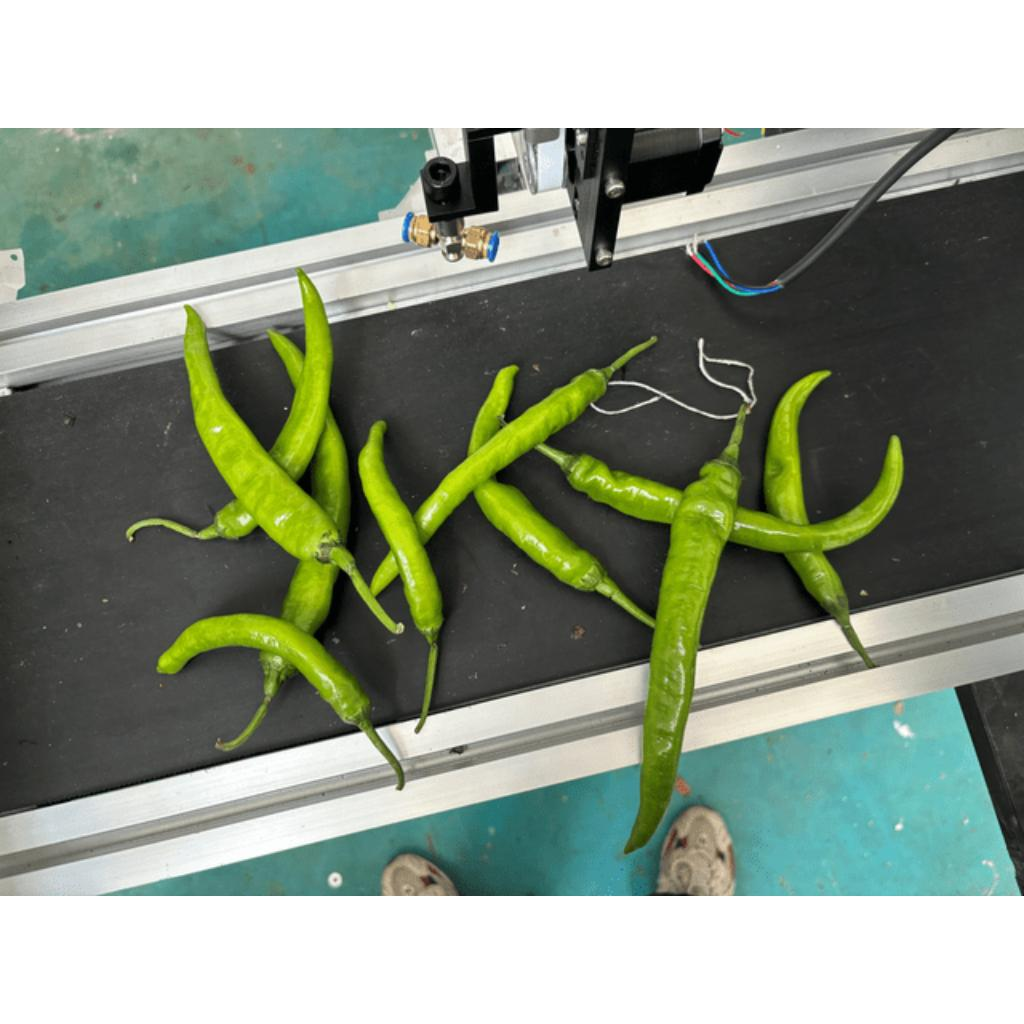chili: (364, 369, 612, 600), (620, 457, 740, 860), (562, 427, 904, 556), (183, 299, 344, 562), (251, 325, 355, 683), (209, 263, 336, 541), (462, 362, 610, 591), (150, 610, 376, 727), (764, 367, 853, 625), (355, 414, 446, 645)
